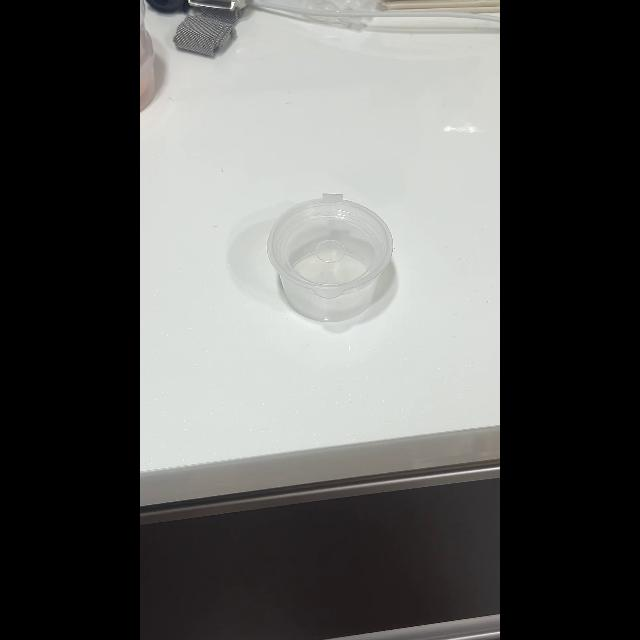clean: (264, 194, 402, 316)
